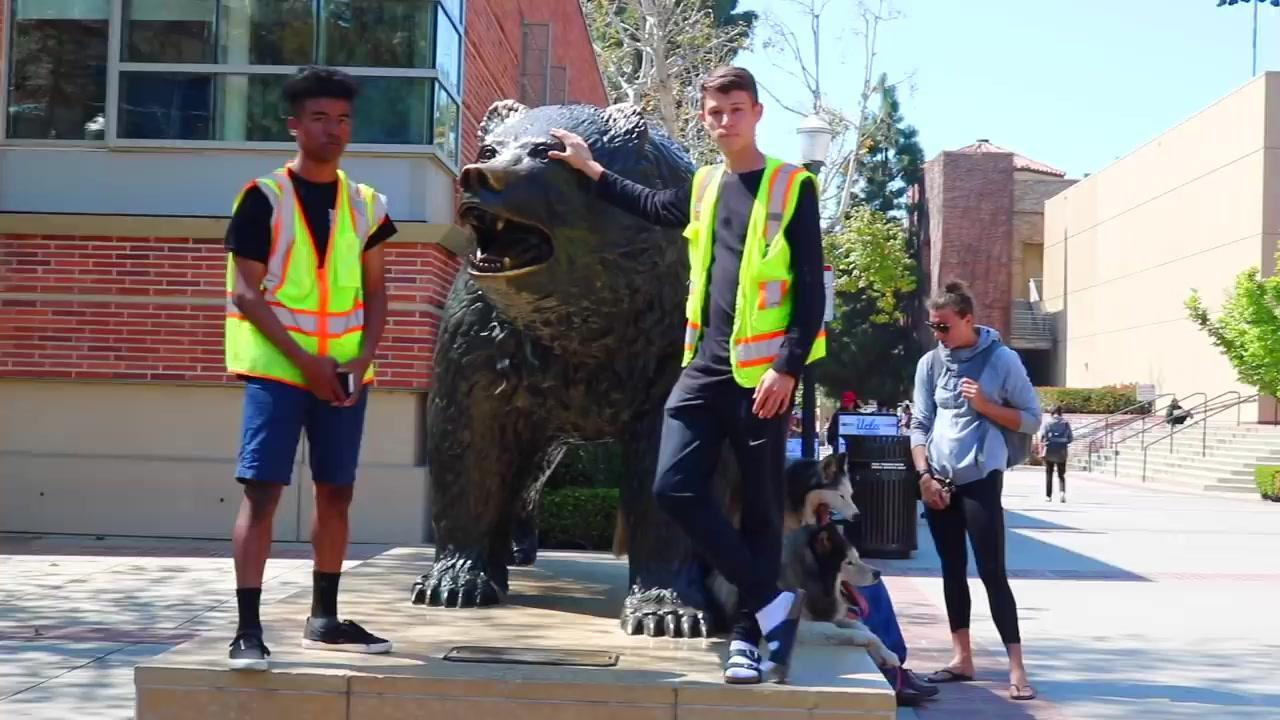vest: (668, 153, 832, 392), (220, 165, 381, 392)
